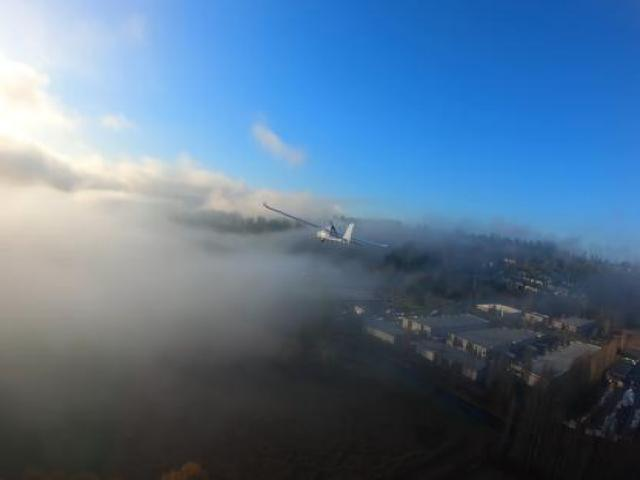uav: (257, 194, 394, 262)
